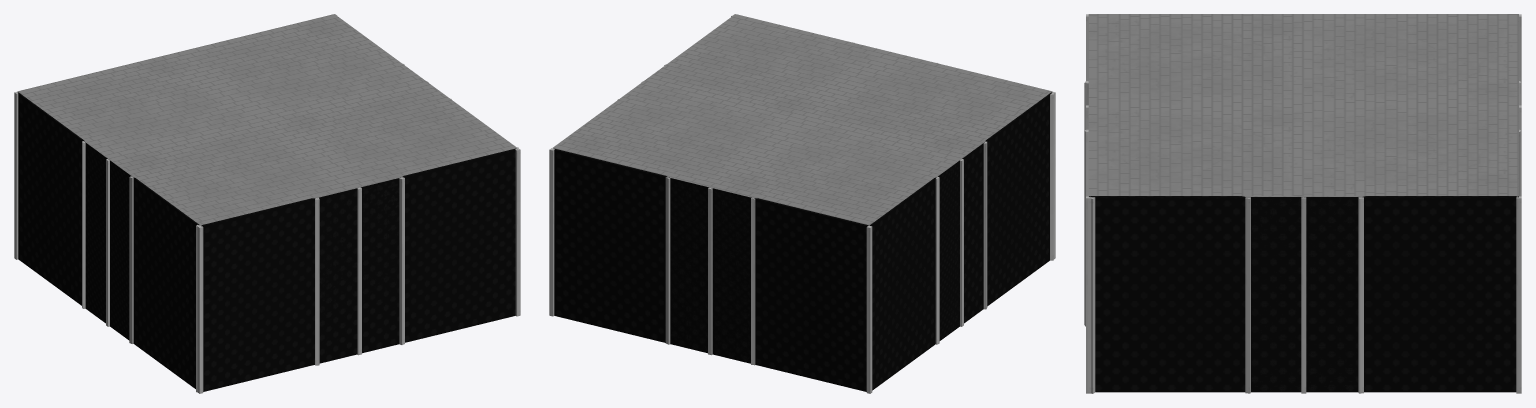
Rendered from SkyscraperSegments.fbx.
The picture shows the model from 3 angles, left to right: view 1: azimuth 30°, elevation 25°; view 2: azimuth 150°, elevation 25°; view 3: azimuth 270°, elevation 25°; orthographic projection. The views are drawn at different scales.
Parts seen in each view (by area): view 1: Skyscraper_Square, Square_Skyscraper_Topper, Skyscraper_Circle, SegmentPillar_4, SegmentPillar_1, SegmentPillar_14, SegmentPillar_19, SegmentPillar_6, SegmentPillar_7, SegmentPillar_13, SegmentPillar_2, SegmentPillar_11; view 2: Skyscraper_Square, Square_Skyscraper_Topper, Skyscraper_Circle, SegmentPillar_6, SegmentPillar_3, SegmentPillar_18, SegmentPillar_5, SegmentPillar_13, SegmentPillar_11, SegmentPillar_9, SegmentPillar_2, SegmentPillar_21 (+1 smaller); view 3: Skyscraper_Square, Square_Skyscraper_Topper, Skyscraper_Circle, SegmentPillar_3, SegmentPillar, SegmentPillar_10, SegmentPillar_8, SegmentPillar_1, SegmentPillar_22, SegmentPillar_14.
Part boxes in pixels (<box>): Skyscraper_Square: <box>17,92,516,391</box>; Square_Skyscraper_Topper: <box>17,14,516,225</box>; Skyscraper_Circle: <box>85,143,399,362</box>; SegmentPillar_4: <box>197,225,203,393</box>; SegmentPillar_1: <box>515,148,520,316</box>; SegmentPillar_14: <box>399,177,404,344</box>; SegmentPillar_19: <box>315,197,319,365</box>; SegmentPillar_6: <box>14,91,18,259</box>; SegmentPillar_7: <box>357,187,361,355</box>; SegmentPillar_13: <box>129,176,133,343</box>; SegmentPillar_2: <box>106,159,109,326</box>; SegmentPillar_11: <box>82,141,85,308</box>; Skyscraper_Square: <box>553,92,1052,391</box>; Square_Skyscraper_Topper: <box>553,14,1052,225</box>; Skyscraper_Circle: <box>670,154,971,362</box>; SegmentPillar_6: <box>866,225,872,393</box>; SegmentPillar_3: <box>549,148,554,316</box>; SegmentPillar_18: <box>665,177,670,344</box>; SegmentPillar_5: <box>708,187,712,355</box>; SegmentPillar_13: <box>983,141,987,309</box>; SegmentPillar_11: <box>935,177,939,344</box>; SegmentPillar_9: <box>751,198,755,365</box>; SegmentPillar_2: <box>960,159,963,326</box>; SegmentPillar_21: <box>1050,93,1053,260</box>; Skyscraper_Square: <box>1089,196,1518,392</box>; Square_Skyscraper_Topper: <box>1088,14,1518,195</box>; Skyscraper_Circle: <box>1242,196,1366,392</box>; SegmentPillar_3: <box>1516,196,1521,393</box>; SegmentPillar: <box>1301,197,1306,393</box>; SegmentPillar_10: <box>1245,197,1250,393</box>; SegmentPillar_8: <box>1358,197,1363,393</box>; SegmentPillar_1: <box>1086,196,1090,393</box>; SegmentPillar_22: <box>1091,197,1095,393</box>; SegmentPillar_14: <box>1084,129,1088,326</box>.
Size of the model in its own units: 1627 by 806 by 1625.
3 materials, 3 textured.
